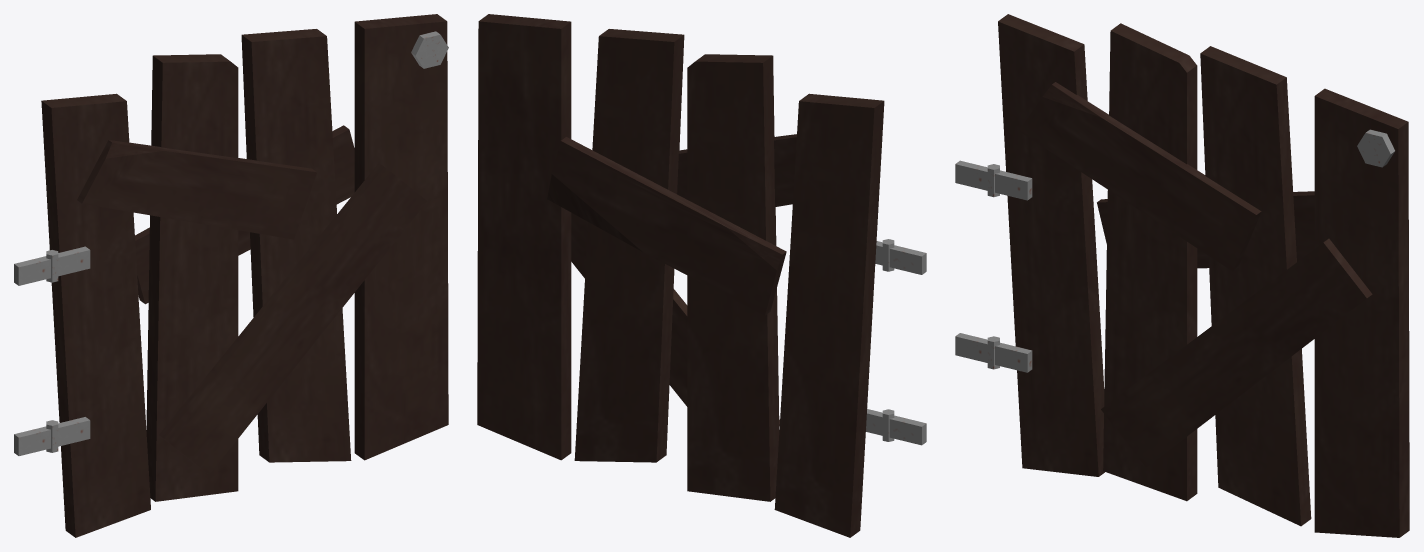
The model's file is SM_Barriere_Portillon_001.fbx.
The picture shows the model from 3 angles, left to right: view 1: azimuth 30°, elevation 25°; view 2: azimuth 150°, elevation 25°; view 3: azimuth 330°, elevation 25°; orthographic projection.
Visible parts, largest first — view 1: polySurface24; view 2: polySurface24; view 3: polySurface24.
Boxes of the visible parts, left/top/right/bottom form: polySurface24: left=14, top=14, right=448, bottom=537; polySurface24: left=477, top=14, right=926, bottom=537; polySurface24: left=955, top=14, right=1409, bottom=537.
Size of the model in its own units: 141 by 140 by 11.94.
